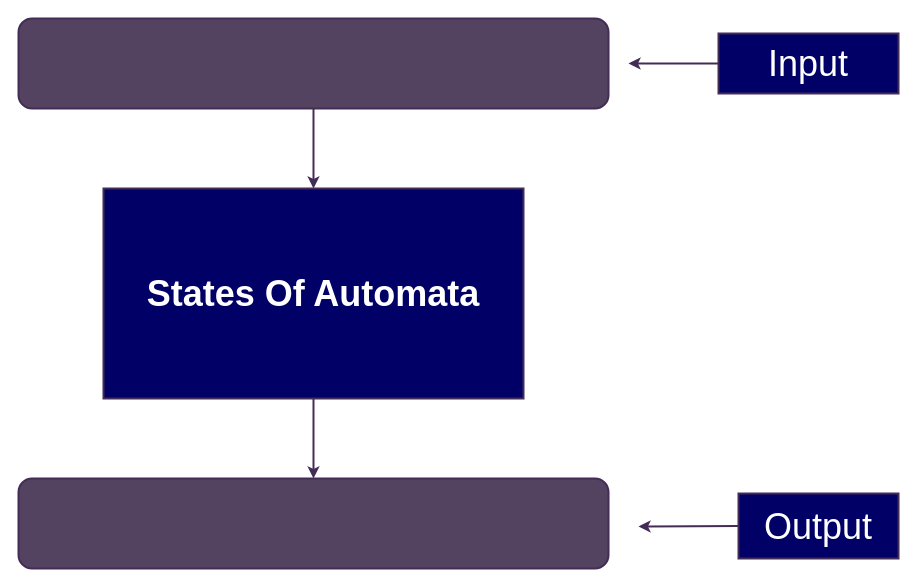
This 916x586 diagram has some shape labels left out. Each missing label, with the box of its shape:
In(1) , In(2), In(3)....................In(n): (17, 17, 609, 109)
O(1), O(2), O(3)....................O(n): (17, 477, 609, 569)
